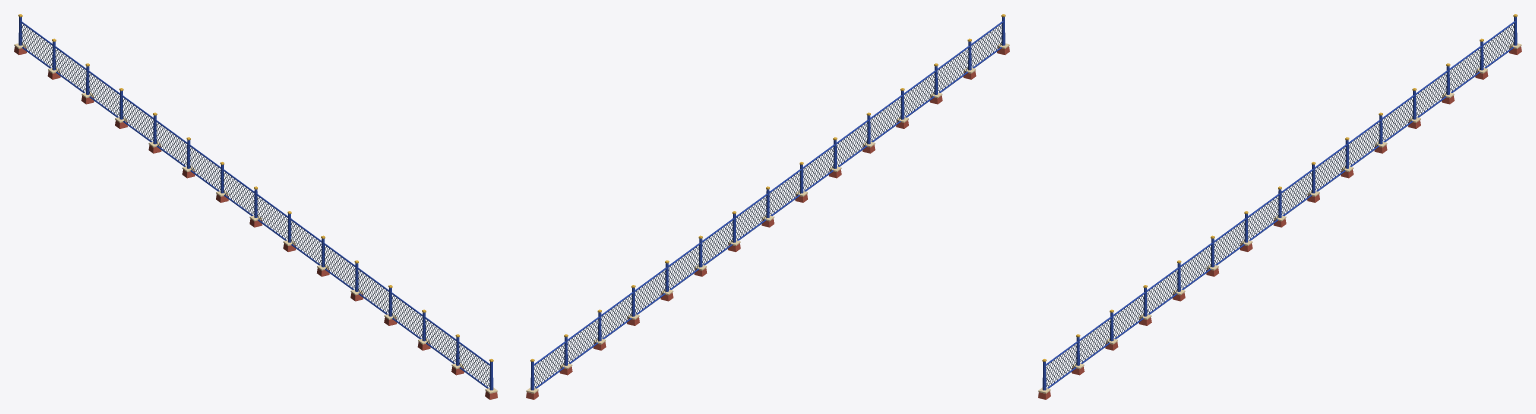
File: fence_6.glb
3 views of the same model, side by side, from view 1: azimuth 30°, elevation 25°; view 2: azimuth 150°, elevation 25°; view 3: azimuth 330°, elevation 25° (orthographic).
Visible parts, largest first — view 1: fence_6; view 2: fence_6; view 3: fence_6.
Part boxes in pixels (left/top/right/bottom): fence_6: left=14, top=14, right=497, bottom=399; fence_6: left=526, top=14, right=1009, bottom=399; fence_6: left=1038, top=14, right=1521, bottom=399.
Bounding box in the file's own units: 0.4439 × 1.87 × 42.44.
